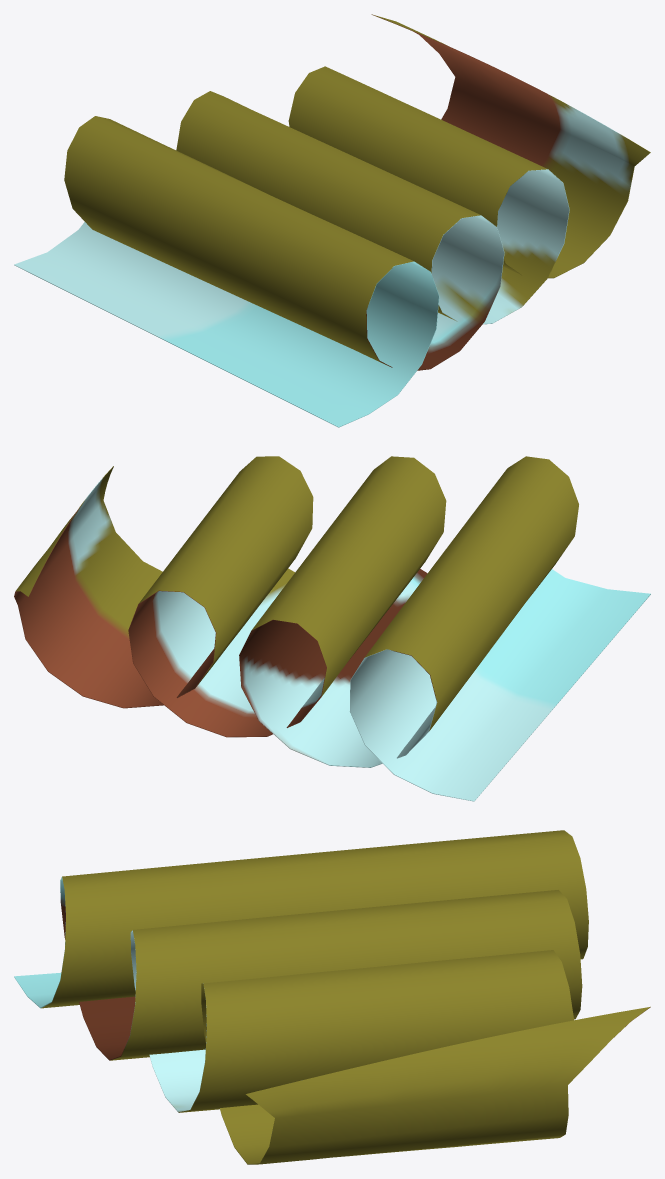
File: Level 139.fbx
3 views of the same model, one above another, from view 1: azimuth 30°, elevation 25°; view 2: azimuth 150°, elevation 25°; view 3: azimuth 270°, elevation 25° (orthographic). The views are drawn at different scales.
Parts seen in each view (by area): view 1: guitar; view 2: guitar; view 3: guitar.
Boxes of the visible parts, x1,y1,x2,y2 form: guitar: [14, 14, 650, 427]; guitar: [14, 456, 650, 801]; guitar: [14, 830, 650, 1164].
Size of what is drawn, in the model's own units: 414 by 103 by 414.
